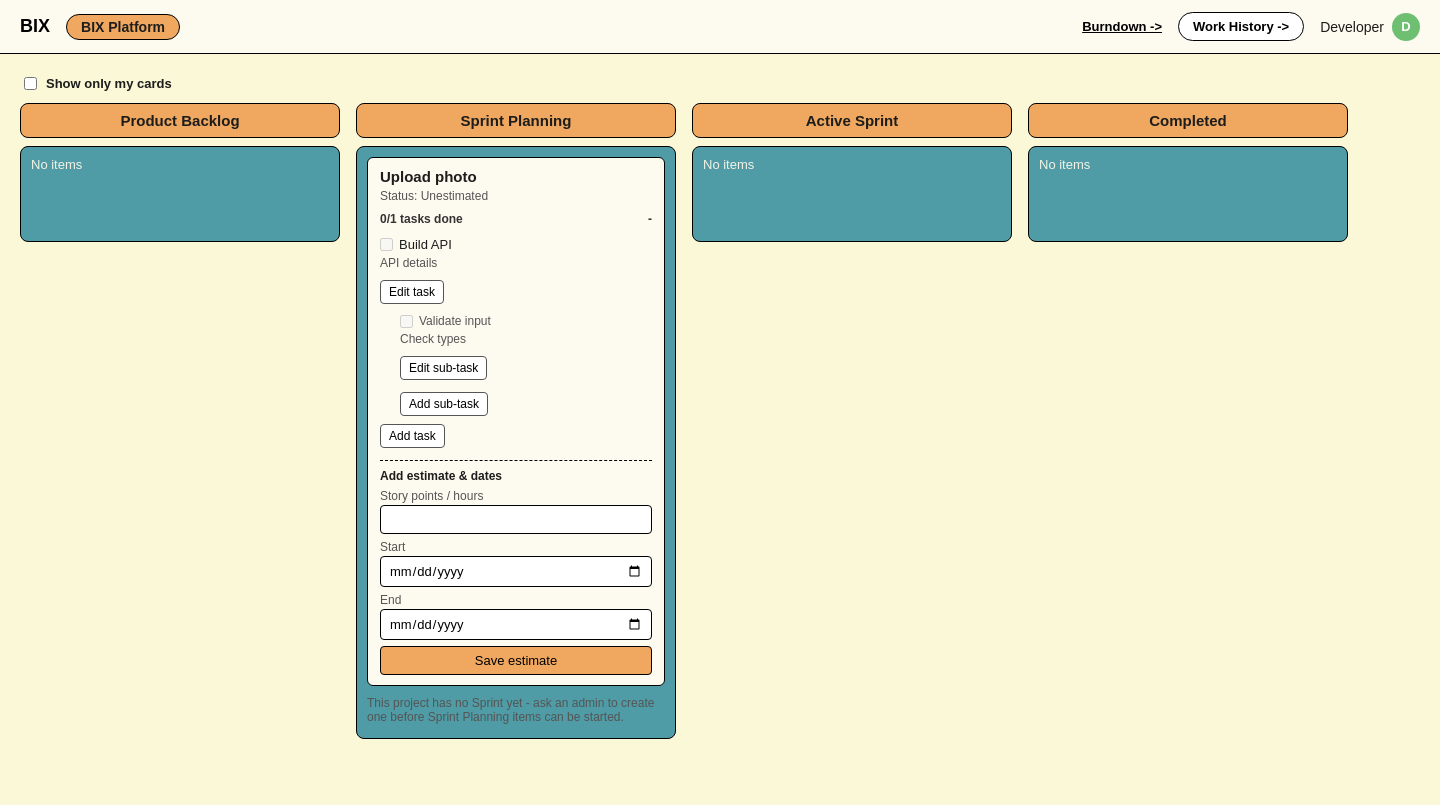
Test: Sprint Planning breakdown › creates a sub-task under its existing parent and shows server-confirmed data
Click the button "Add sub-task".
click(444, 404)  # box [400,392,488,416]
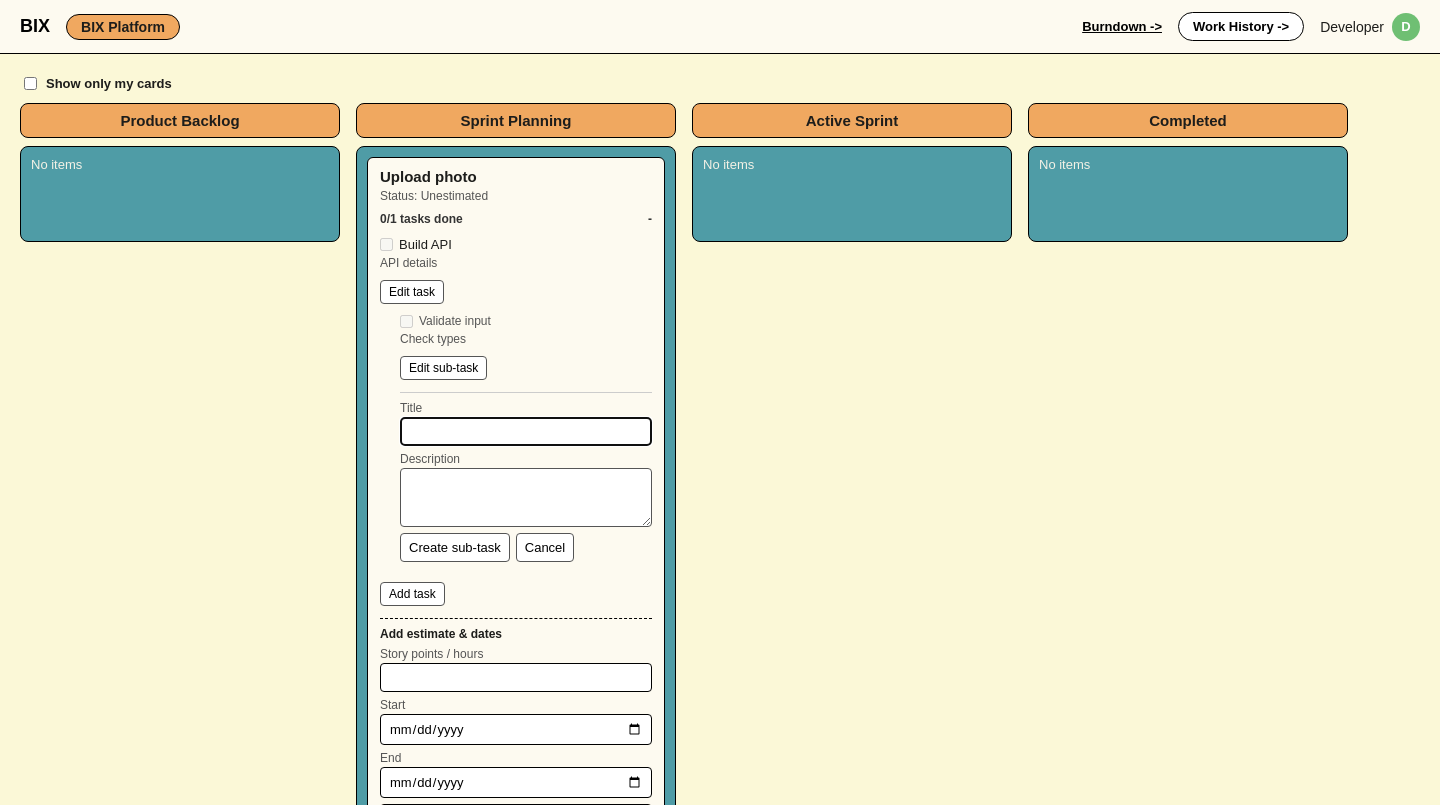
Type "  New work  " into the field labelled "Title".
click(526, 432); type("  New work  ")  # box [400,417,652,446]
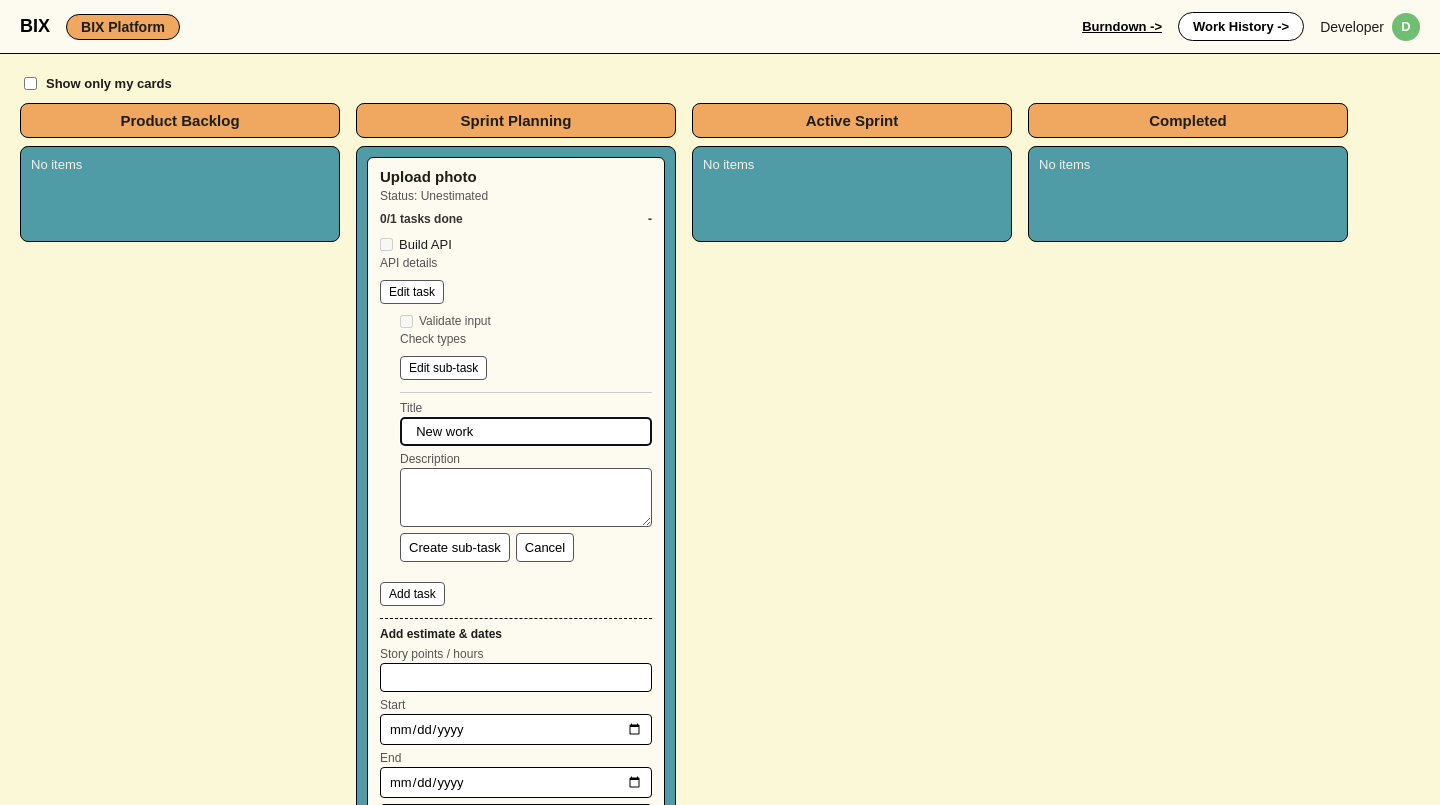
Type "Details" into the text box labelled "Description".
click(526, 498); type("Details")  # box [400,468,652,527]
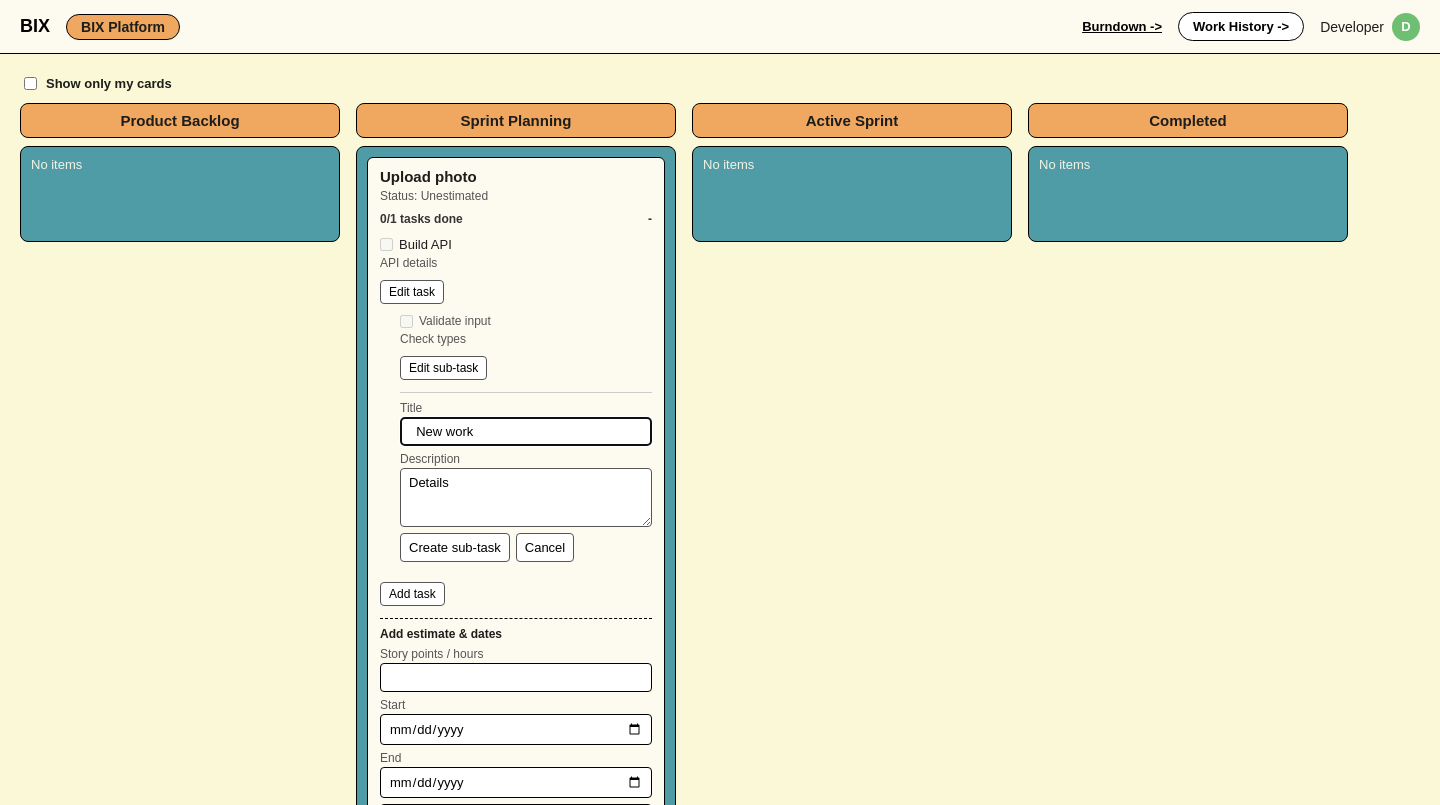
Click the button "Create sub-task".
click(455, 548)  # box [400,533,510,562]
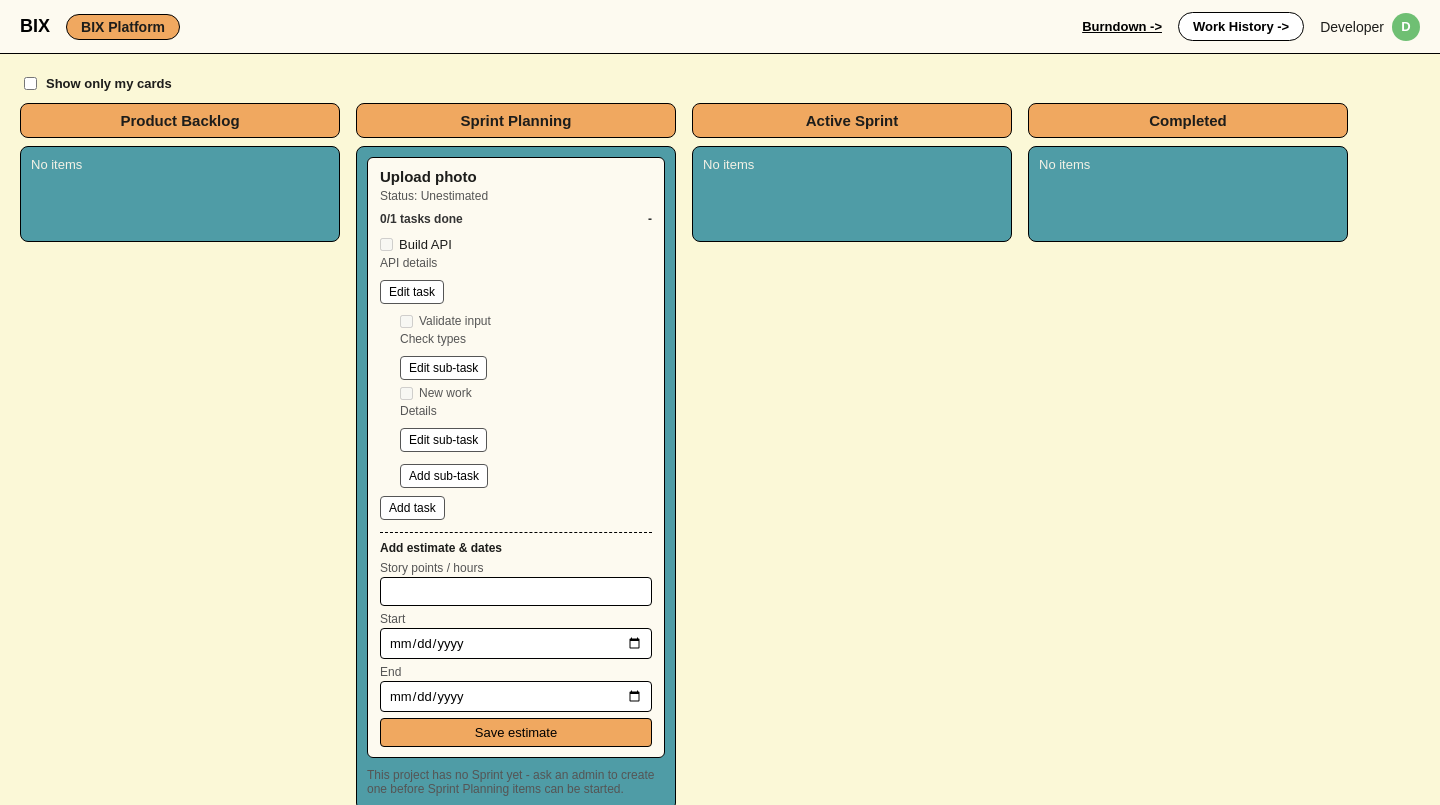
Check: the number of headings "Upload photo" is 1, box [380,168,477,185]
Check: the text "New work" is shown, box [419,386,472,400]
